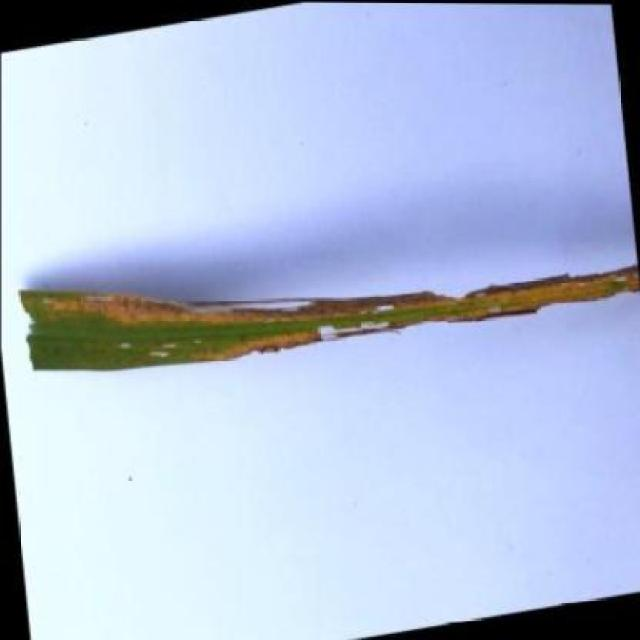Rice False Smut: (19, 266, 638, 371)
